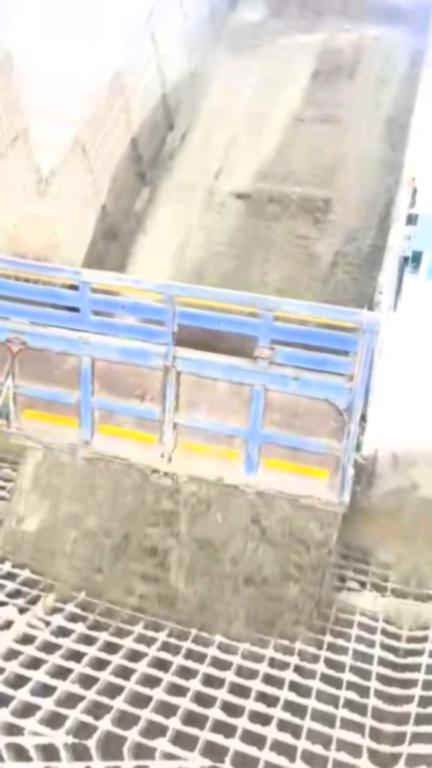sand: (140, 22, 423, 307), (1, 451, 340, 637), (344, 446, 432, 591), (339, 592, 411, 625), (0, 430, 25, 458)
